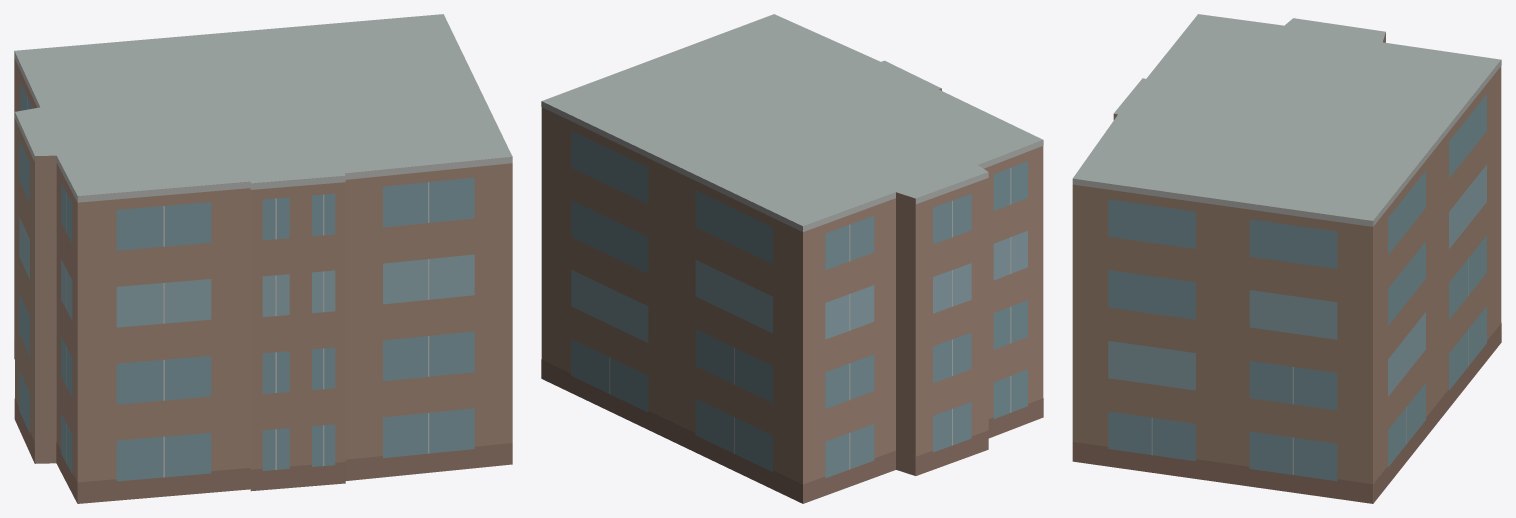
File: survey-upis-32875852.glb
The picture shows the model from 3 angles, left to right: view 1: azimuth 30°, elevation 25°; view 2: azimuth 150°, elevation 25°; view 3: azimuth 270°, elevation 25°; orthographic projection. The views are drawn at different scales.
Parts seen in each view (by area): view 1: survey-upis-32875852.tmp; view 2: survey-upis-32875852.tmp; view 3: survey-upis-32875852.tmp.
Boxes of the visible parts, bbox=[...] form: survey-upis-32875852.tmp: bbox=[14, 14, 512, 503]; survey-upis-32875852.tmp: bbox=[541, 14, 1043, 503]; survey-upis-32875852.tmp: bbox=[1072, 14, 1501, 503].
Bounding box in the file's own units: 18.13 × 11.55 × 15.87.
